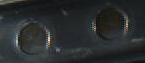joints: (88, 3, 133, 43), (13, 18, 53, 56)
